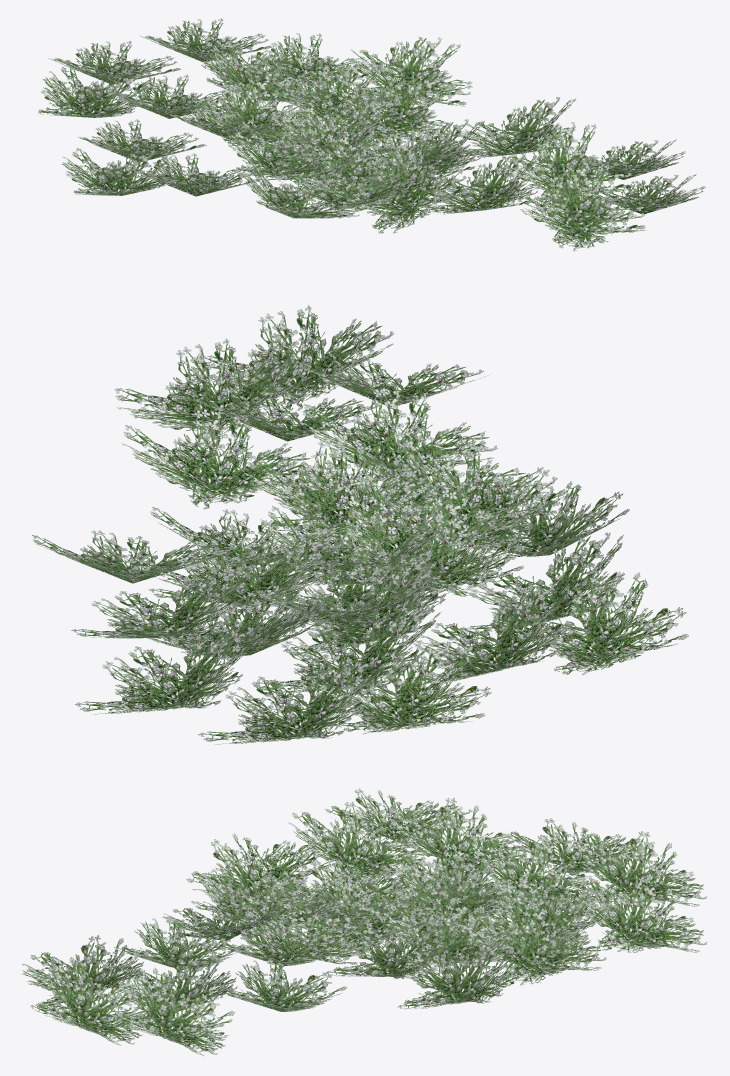
File: ptch_groundflowers_lg_l0.fbx
3 views of the same model, one above another, from view 1: azimuth 30°, elevation 25°; view 2: azimuth 150°, elevation 25°; view 3: azimuth 270°, elevation 25° (orthographic). The views are drawn at different scales.
Visible parts, largest first — view 1: mesh_node; view 2: mesh_node; view 3: mesh_node.
Part boxes in pixels (<box>): mesh_node: <box>37,18,705,251</box>; mesh_node: <box>32,305,688,744</box>; mesh_node: <box>21,788,707,1056</box>.
Size of the model in its own units: 2.52 by 0.2316 by 2.77.
1 material, 1 textured.
